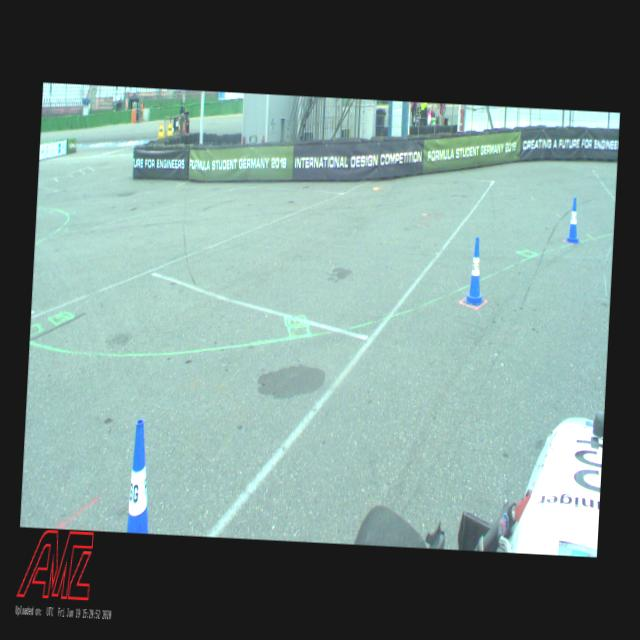blue_cone: (127, 418, 155, 534), (464, 238, 486, 306), (566, 198, 581, 242)
